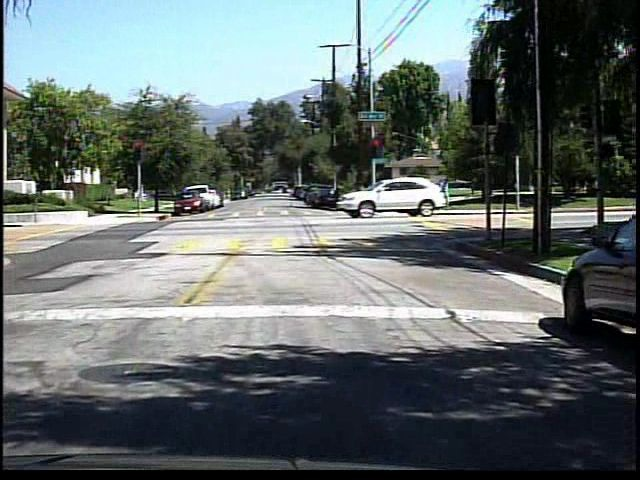person: (435, 172, 454, 214)
